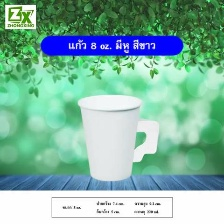paper_cup: (72, 90, 162, 185)
